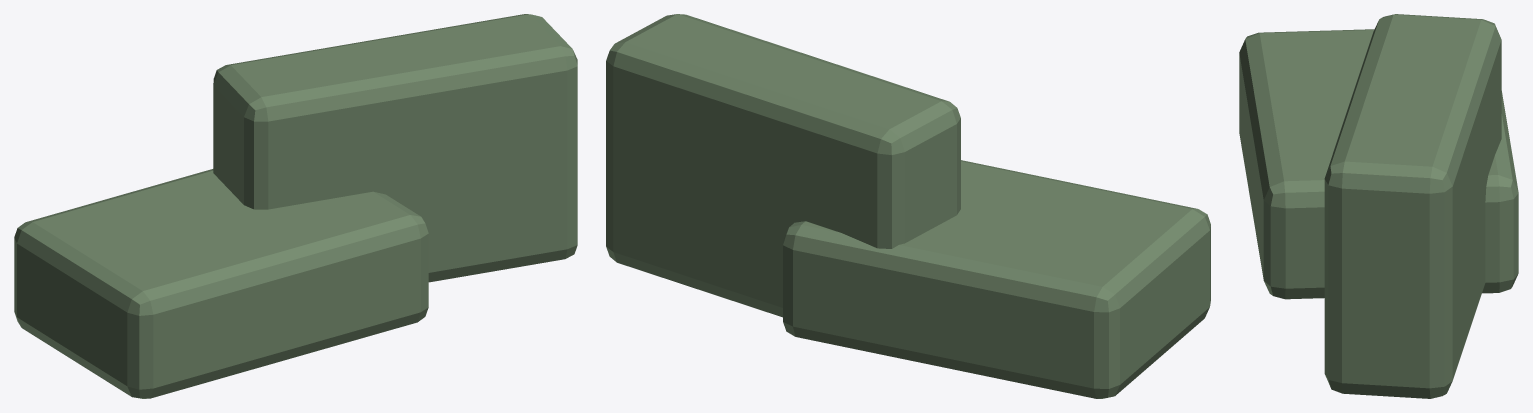
Rendered from decor_c_yoga_blocks.gltf.
3 renders of one model, left to right at view 1: azimuth 30°, elevation 25°; view 2: azimuth 150°, elevation 25°; view 3: azimuth 270°, elevation 25°, orthographic. The views are drawn at different scales.
Visible parts, largest first — view 1: DecorC_YogaBlocks_Sage_NoCollide; view 2: DecorC_YogaBlocks_Sage_NoCollide; view 3: DecorC_YogaBlocks_Sage_NoCollide.
Part boxes in pixels (left/top/right/bottom): DecorC_YogaBlocks_Sage_NoCollide: left=14, top=14, right=577, bottom=398; DecorC_YogaBlocks_Sage_NoCollide: left=606, top=14, right=1210, bottom=398; DecorC_YogaBlocks_Sage_NoCollide: left=1239, top=14, right=1518, bottom=398.
Size of the model in its own units: 0.3766 by 0.15 by 0.164.
